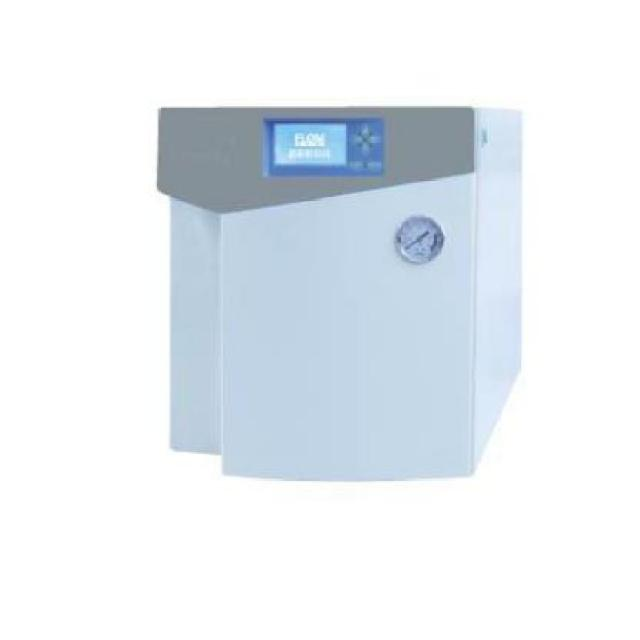cooler: (154, 104, 529, 483)
